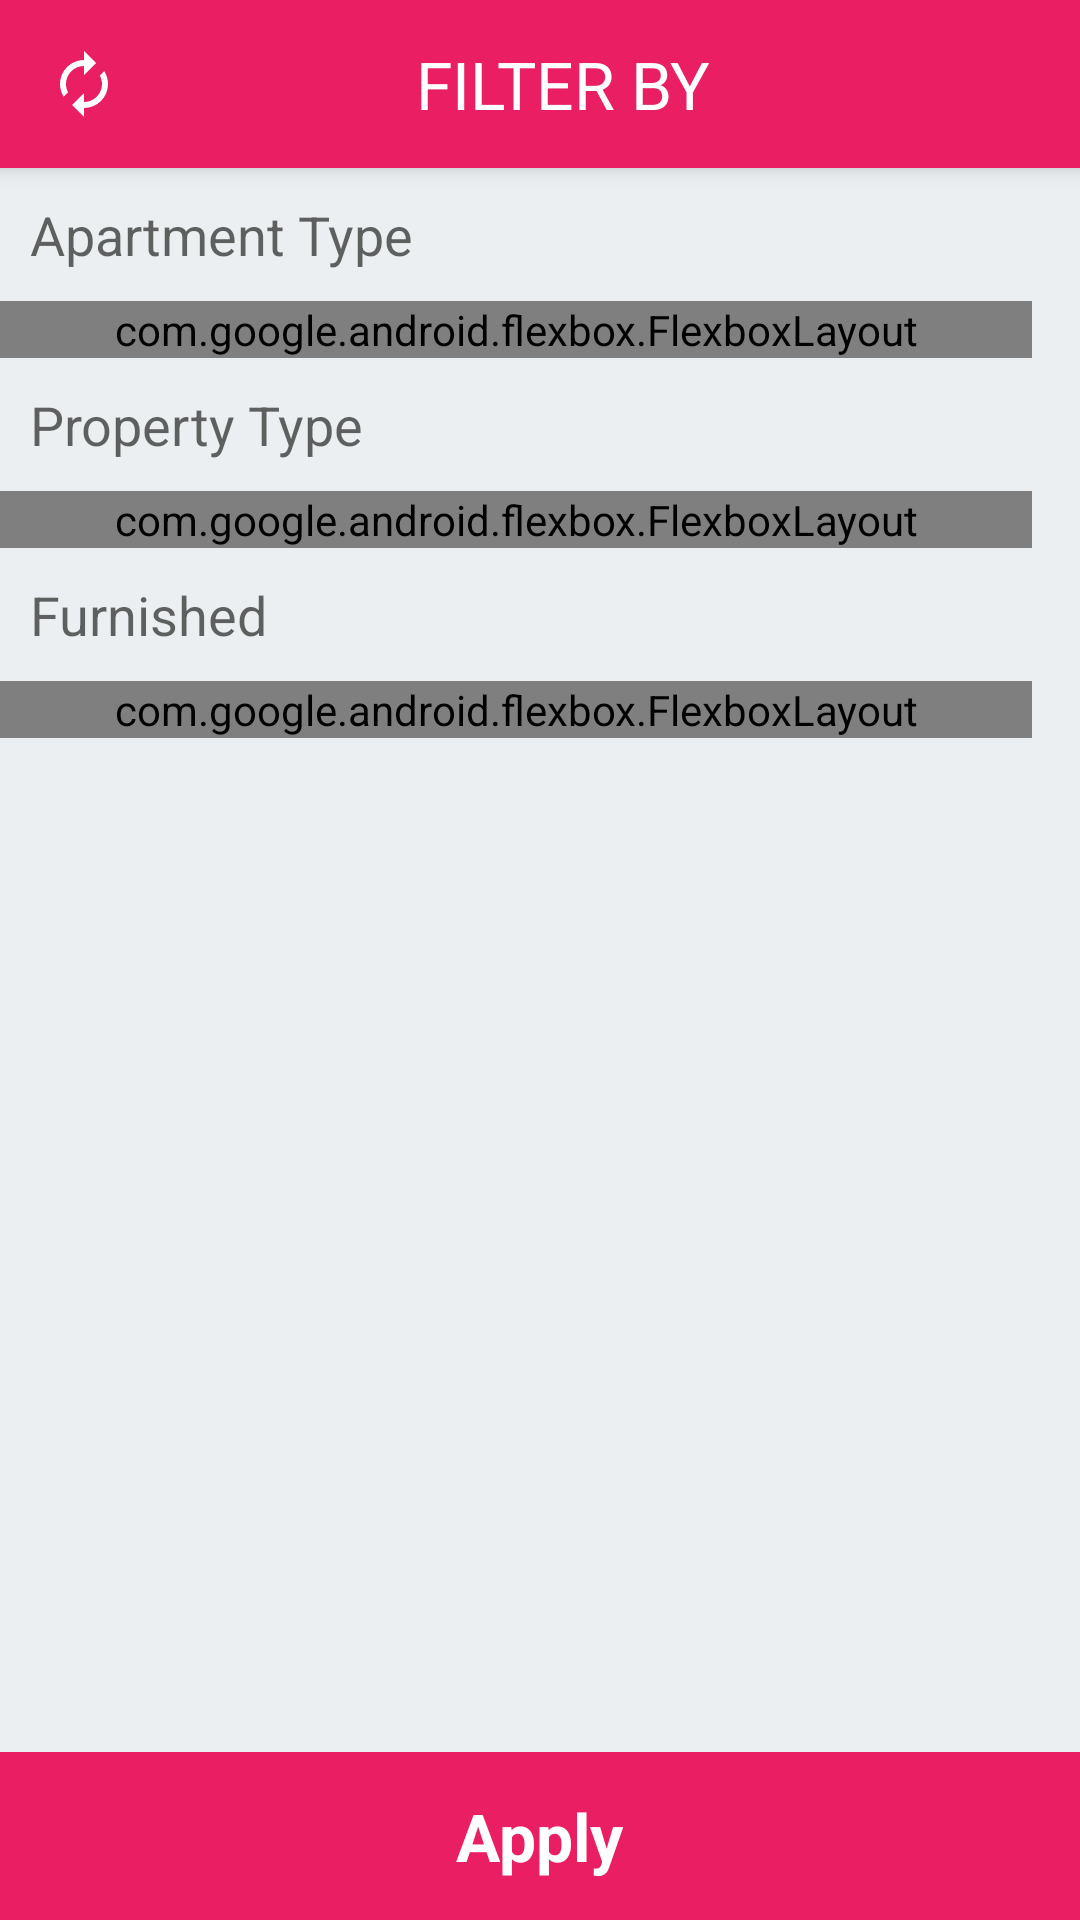

Icon click points for this 1080×1920 phone screenshot, format [x,y]:
autorenew: [84,84]
